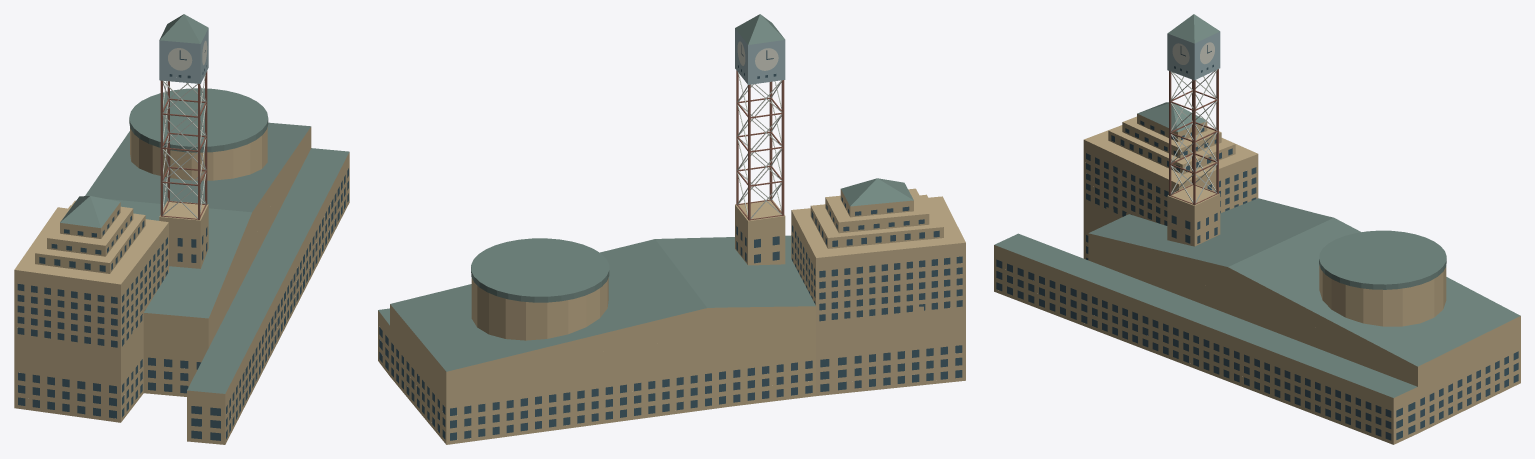
File: mississauga-civic-centre-near.glb
The picture shows the model from 3 angles, left to right: view 1: azimuth 30°, elevation 25°; view 2: azimuth 150°, elevation 25°; view 3: azimuth 270°, elevation 25°; orthographic projection. The views are drawn at different scales.
Parts seen in each view (by area): view 1: mississauga-civic-centre-0-stone, mississauga-civic-centre-0-roof, mississauga-civic-centre-0-glass, mississauga-civic-centre-0-brace, mississauga-civic-centre-0-clock, mississauga-civic-centre-0-column, mississauga-civic-centre-0-frame, mississauga-civic-centre-0-dial; view 2: mississauga-civic-centre-0-stone, mississauga-civic-centre-0-roof, mississauga-civic-centre-0-glass, mississauga-civic-centre-0-column, mississauga-civic-centre-0-brace, mississauga-civic-centre-0-clock, mississauga-civic-centre-0-frame, mississauga-civic-centre-0-dial; view 3: mississauga-civic-centre-0-stone, mississauga-civic-centre-0-roof, mississauga-civic-centre-0-glass, mississauga-civic-centre-0-brace, mississauga-civic-centre-0-clock, mississauga-civic-centre-0-column, mississauga-civic-centre-0-frame, mississauga-civic-centre-0-dial.
Boxes of the visible parts, x1,y1,x2,y2 form: mississauga-civic-centre-0-stone: (14, 127, 349, 444); mississauga-civic-centre-0-roof: (60, 14, 349, 393); mississauga-civic-centre-0-glass: (17, 50, 348, 440); mississauga-civic-centre-0-brace: (162, 74, 206, 218); mississauga-civic-centre-0-clock: (159, 28, 208, 83); mississauga-civic-centre-0-column: (160, 71, 207, 219); mississauga-civic-centre-0-frame: (162, 98, 206, 219); mississauga-civic-centre-0-dial: (168, 40, 207, 70); mississauga-civic-centre-0-stone: (378, 188, 965, 444); mississauga-civic-centre-0-roof: (378, 14, 913, 371); mississauga-civic-centre-0-glass: (379, 45, 962, 440); mississauga-civic-centre-0-column: (736, 70, 784, 220); mississauga-civic-centre-0-brace: (737, 72, 781, 218); mississauga-civic-centre-0-clock: (735, 29, 785, 84); mississauga-civic-centre-0-frame: (737, 97, 782, 219); mississauga-civic-centre-0-dial: (737, 41, 778, 70); mississauga-civic-centre-0-stone: (994, 113, 1520, 444); mississauga-civic-centre-0-roof: (994, 14, 1520, 397); mississauga-civic-centre-0-glass: (996, 45, 1518, 440); mississauga-civic-centre-0-brace: (1170, 70, 1217, 203); mississauga-civic-centre-0-clock: (1167, 31, 1220, 80); mississauga-civic-centre-0-column: (1169, 69, 1218, 205); mississauga-civic-centre-0-frame: (1170, 90, 1217, 204); mississauga-civic-centre-0-dial: (1172, 42, 1214, 64).
Size of the model in its own units: 133 by 92 by 143.
